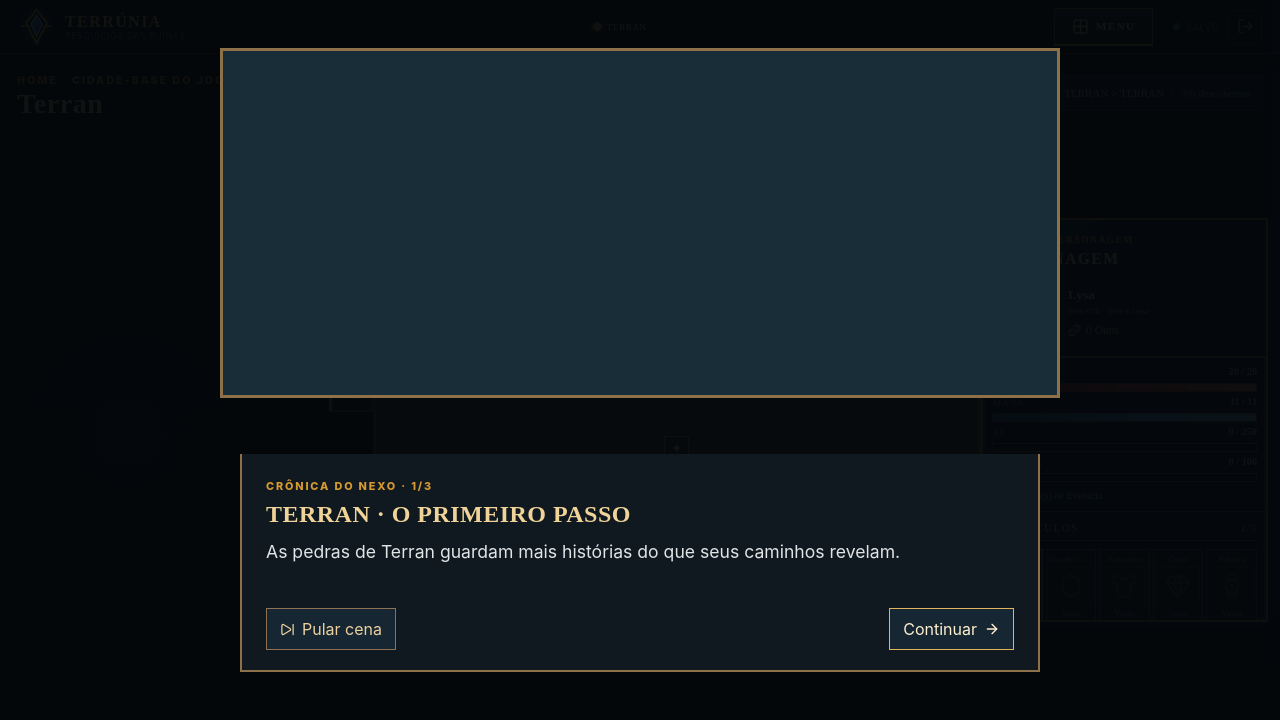
Scenario: interfaces de Terran › exibe a cutscene de chegada sobre a mesma cidade e permite encerrá-la
The image size is (1280, 720).
Expected: the picture named "Terran vista superior 3/4" is shown, [376,221,977,619]
Click the button "Pular cena". click: (331, 629)
box: [266,608,396,650]
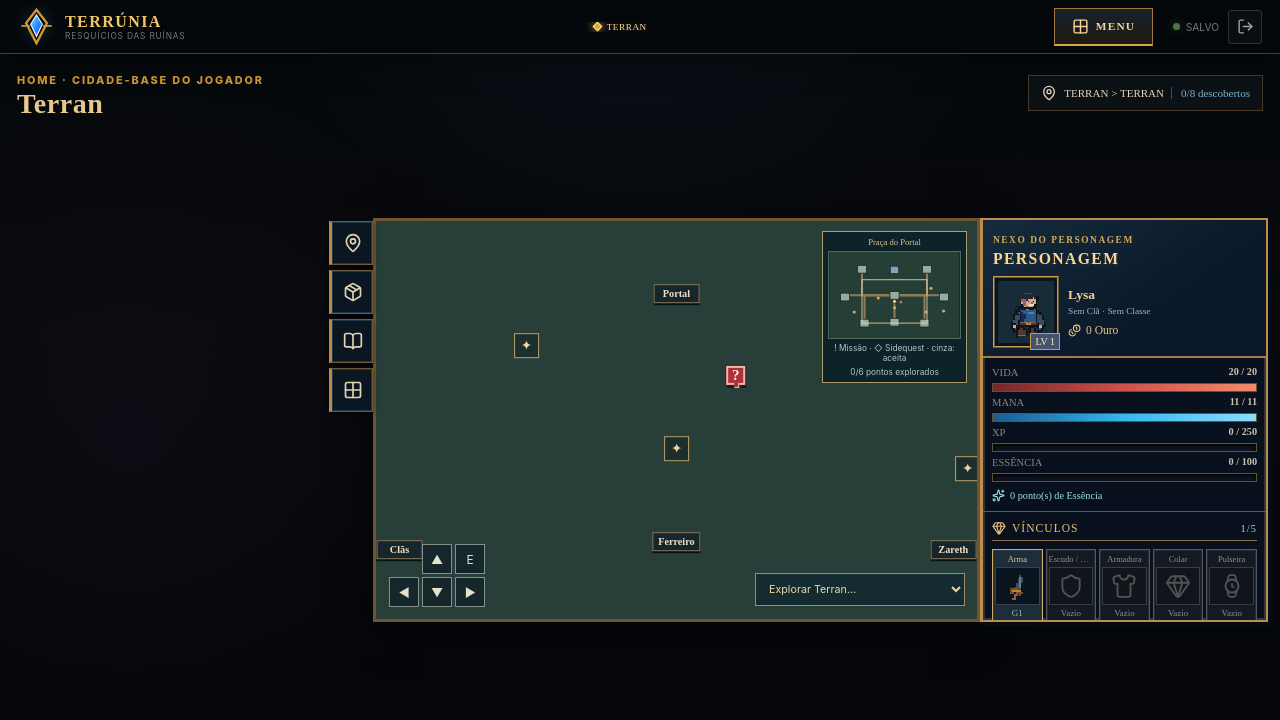
Expected: the heading "TERRAN · O PRIMEIRO PASSO" is gone
